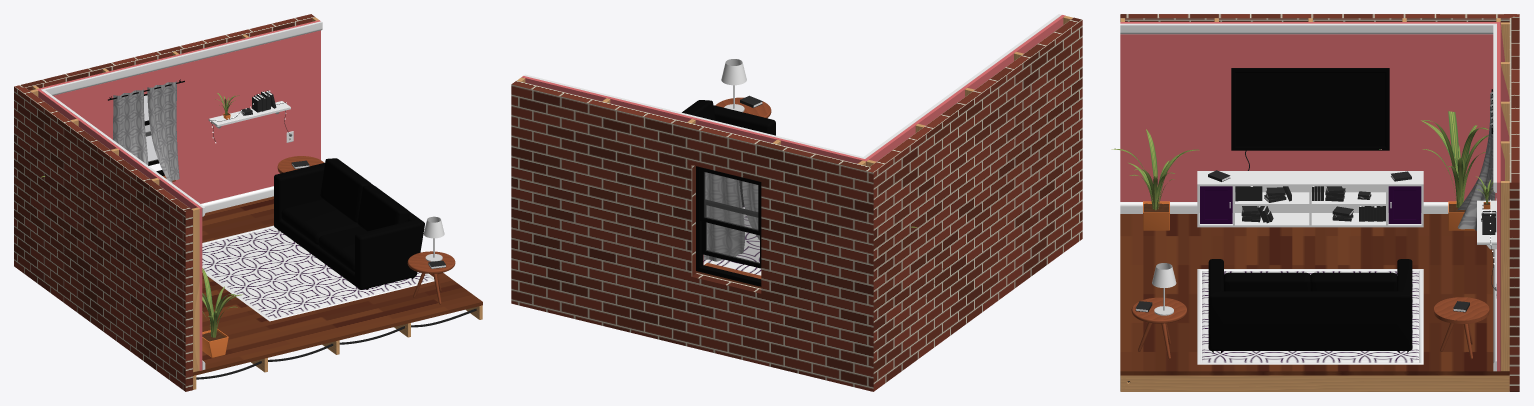
Rendered from living.glb.
The picture shows the model from 3 angles, left to right: view 1: azimuth 30°, elevation 25°; view 2: azimuth 150°, elevation 25°; view 3: azimuth 270°, elevation 25°; orthographic projection. The views are drawn at different scales.
Visible parts, largest first — view 1: Platform_WallBG_4, Platform_RoomWall_7, Platform_Base_0, Mat_15, Sofa_10, Curtains_34, Sofa Pillow 2_13, Moulding_Top_25, Sofa Pillow_12, Platform_WallSupportL_6, Mat Edge_14, Moulding_Base_24 (+10 smaller); view 2: Platform_WallBG_4, Platform_RoomWall_7, Curtains_34, Window Top Glass_29, Window Bottom Glass_31, Moulding_Top_25, Window Top Frame_28, Window Frame_27, Sofa_10, Window Bottom Frame_30, Mat_15, Lamp_51; view 3: Platform_RoomWall_7, Platform_Base_0, Sofa_10, TV Wire_8, TV Table_9, Platform_WallBG_4, Platform_BasePillers_3, Moulding_Top_25, Mat_15, Book_39, Sofa Pillow 2_13, Platform_WallSupportR_5 (+10 smaller).
Part boxes in pixels (x1,y1,x2,y2): Platform_WallBG_4: (14,14,315,391); Platform_RoomWall_7: (36,20,320,370); Platform_Base_0: (193,196,482,375); Mat_15: (202,227,432,318); Sofa_10: (274,162,424,289); Curtains_34: (113,81,179,183); Sofa Pillow 2_13: (320,158,409,231); Moulding_Top_25: (41,21,322,216); Sofa Pillow_12: (281,199,366,272); Platform_WallSupportL_6: (30,89,199,372); Mat Edge_14: (202,225,434,321); Moulding_Base_24: (201,186,273,370); Platform_WallBG_4: (511,17,1082,391); Platform_RoomWall_7: (522,15,1065,264); Curtains_34: (703,172,759,261); Window Top Glass_29: (704,172,757,229); Window Bottom Glass_31: (706,205,759,263); Moulding_Top_25: (523,14,1061,158); Window Top Frame_28: (700,167,761,235); Window Frame_27: (696,166,761,286); Sofa_10: (713,105,775,206); Window Bottom Frame_30: (701,199,761,268); Mat_15: (703,206,761,275); Lamp_51: (721,59,746,112); Platform_RoomWall_7: (1120,22,1509,371); Platform_Base_0: (1120,214,1509,375); Sofa_10: (1208,259,1412,350); TV Wire_8: (1231,68,1389,170); TV Table_9: (1197,171,1423,227); Platform_WallBG_4: (1120,14,1519,391); Platform_BasePillers_3: (1120,375,1509,391); Moulding_Top_25: (1120,23,1496,192); Mat_15: (1202,271,1418,362); Book_39: (1135,170,1496,312); Sofa Pillow 2_13: (1224,272,1397,291); Platform_WallSupportR_5: (1500,22,1509,371).
Size of the model in its own units: 4.48 by 2.55 by 4.51.
Materials: 28 (9 with a texture image).
